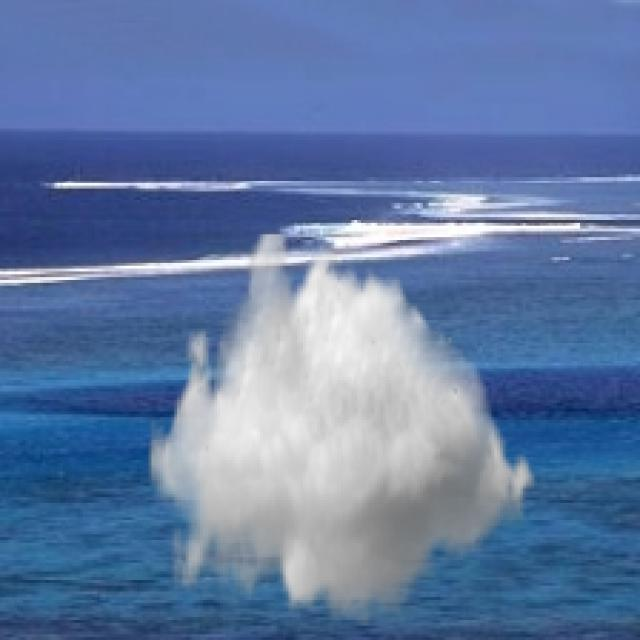smoke: (148, 231, 543, 626)
